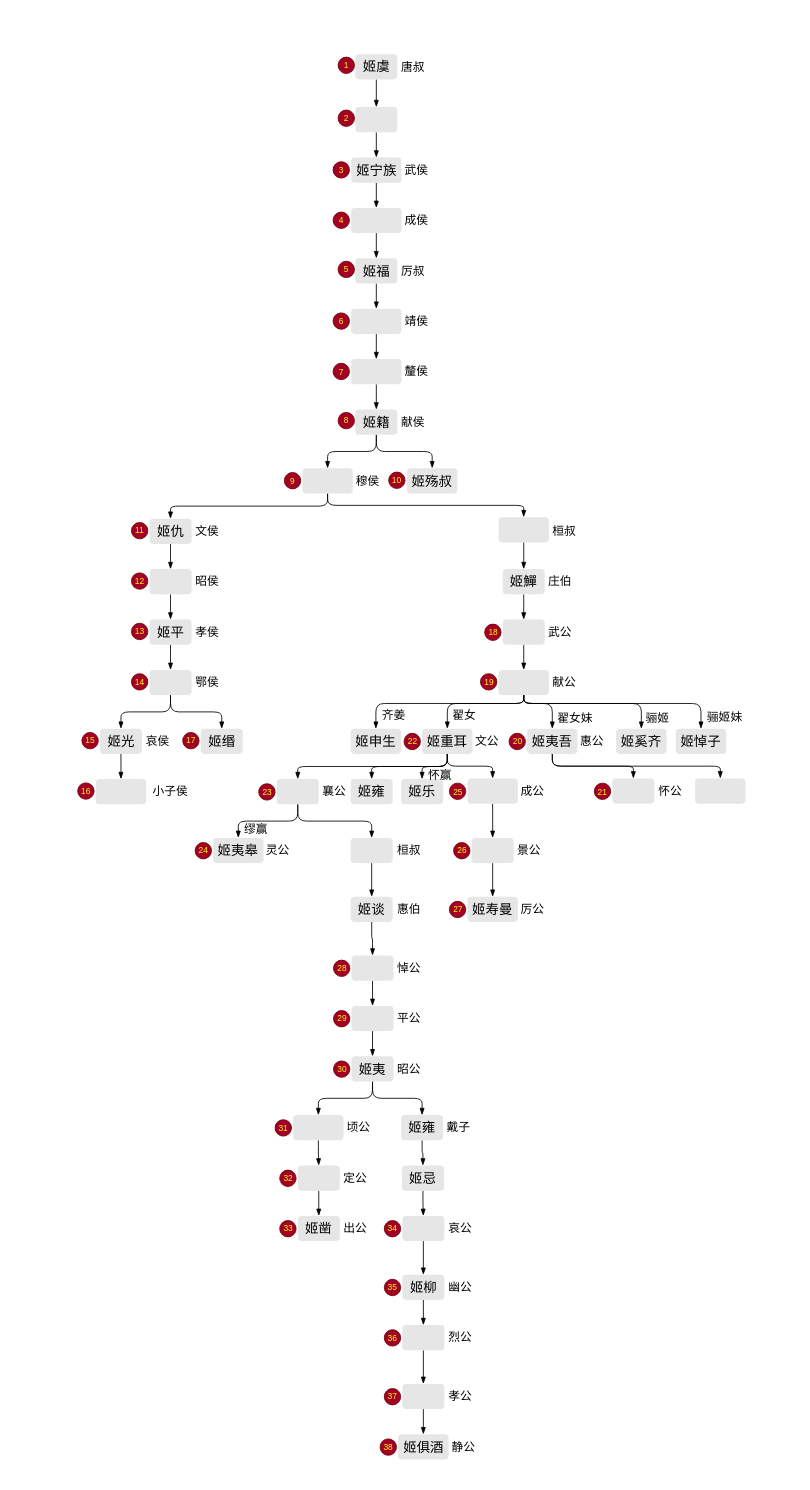
Some shapes in this 810 by 1490 pixel diagram are drawn without their labels. The box of each missing label's shape, as (x1, y1, x2, y2) in pixels:
姬伯: (149, 569, 191, 594)
姬午: (297, 1165, 339, 1190)
姬去疾: (293, 1115, 343, 1140)
姬司徒: (351, 359, 401, 384)
姬周: (351, 955, 393, 980)
姬圉: (612, 778, 654, 803)
姬妾 ♀: (695, 778, 745, 803)
姬宜臼: (351, 308, 401, 333)
姬小子: (95, 779, 146, 804)
姬彪: (351, 1005, 393, 1031)
姬成师: (498, 517, 549, 542)
姬据: (471, 837, 513, 863)
姬捷: (350, 837, 392, 863)
姬服人: (351, 207, 401, 233)
姬欢: (276, 779, 318, 804)
姬止: (402, 1325, 444, 1350)
姬燮: (355, 107, 397, 132)
姬称: (502, 619, 544, 644)
姬诡诸: (498, 669, 549, 695)
姬费王: (302, 468, 352, 493)
姬郄: (149, 669, 191, 695)
姬颀: (402, 1383, 444, 1409)
姬骄: (402, 1215, 444, 1241)
姬黑臀: (467, 778, 517, 803)
